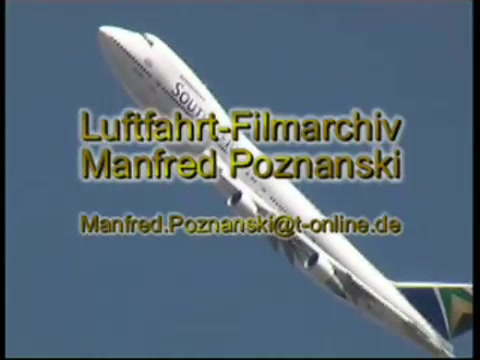aeroplane: (96, 24, 476, 360)
